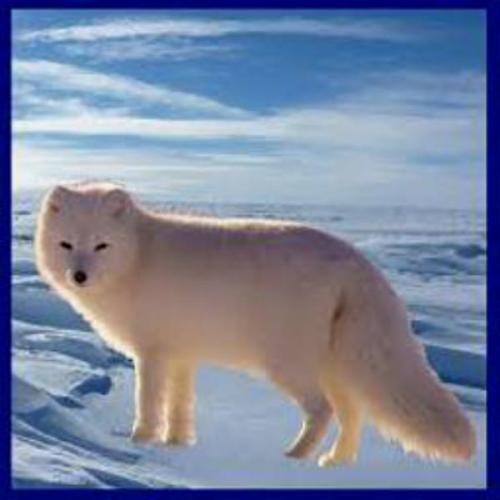arctic_fox-endangered: (35, 184, 474, 463)
